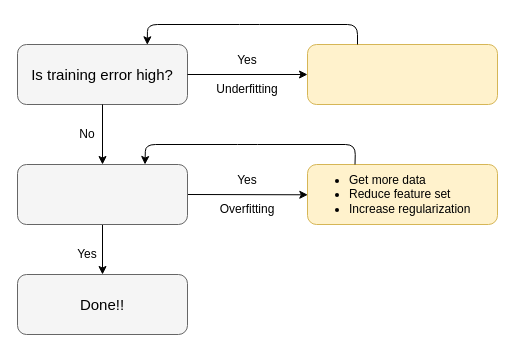
The diagram is 515 pixels wide and 352 high, and some of its shapes have lost their labels. Here are the shapes that lost their labels. From the top down, the centre of each, then its label:
[402,74]: Train Longer More complex features Decrease regularization
[102,194]: Is validation error high?
